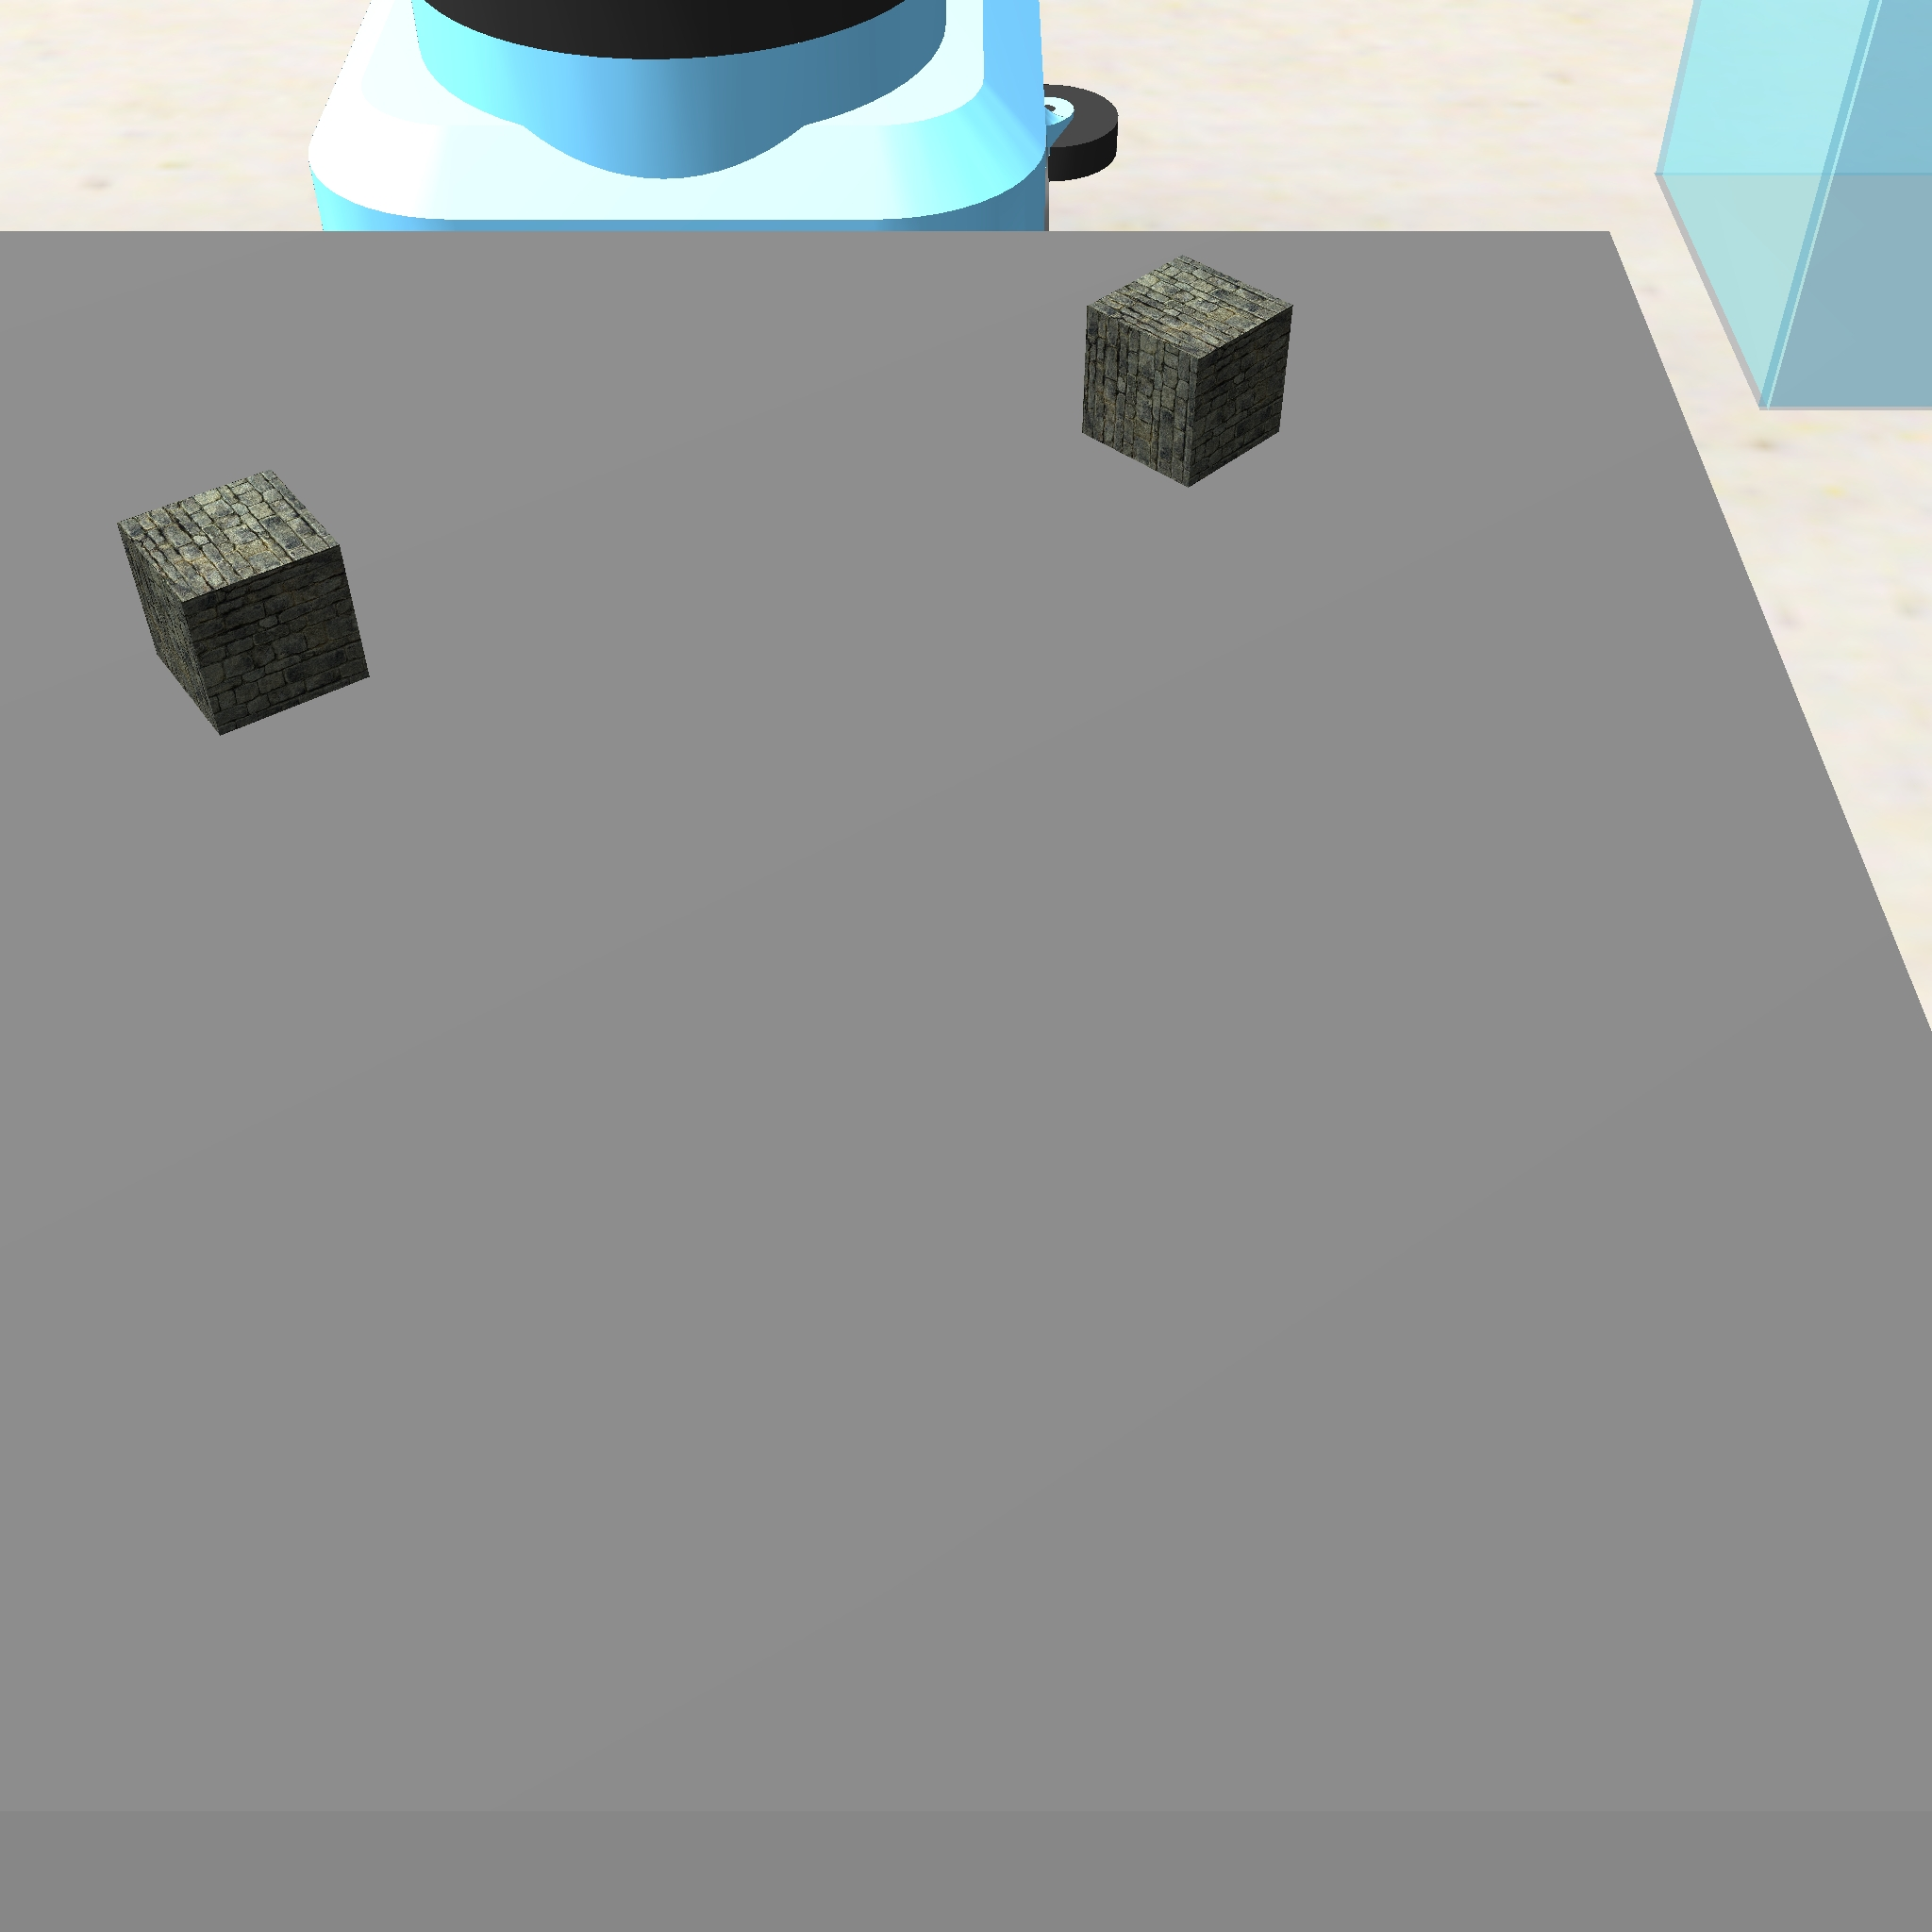cube: (108, 462, 380, 743), (1072, 251, 1299, 494)
